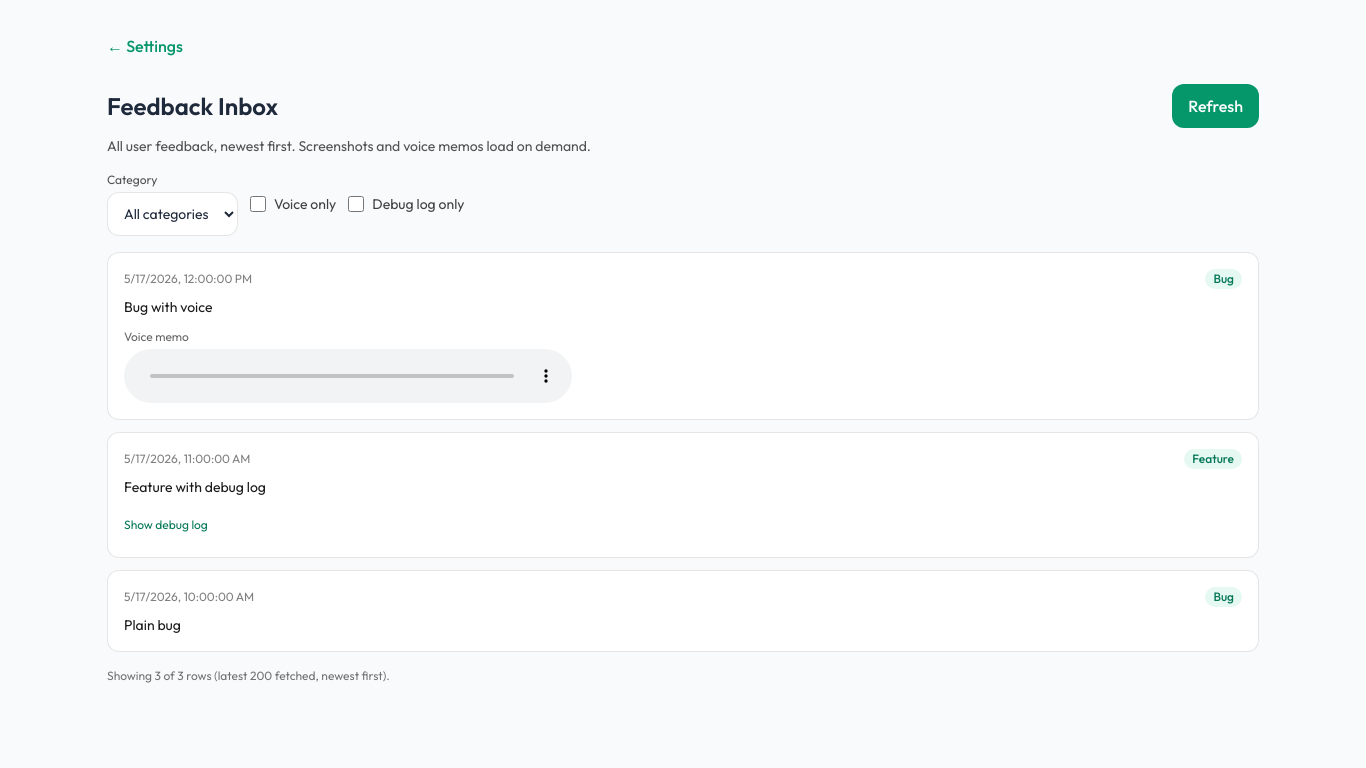
Test: FeedbackInboxPage › filters by category, voice-only, and debug-log-only
The width and height of the screenshot is (1366, 768).
Expected: the text "Bug with voice" is shown, x1=124 y1=298 x2=212 y2=316
Expected: the text "Feature with debug log" is shown, x1=124 y1=478 x2=266 y2=496
Select "Bug" in the dropdown named "filter by category" at [172, 214], box x1=107 y1=192 x2=238 y2=236
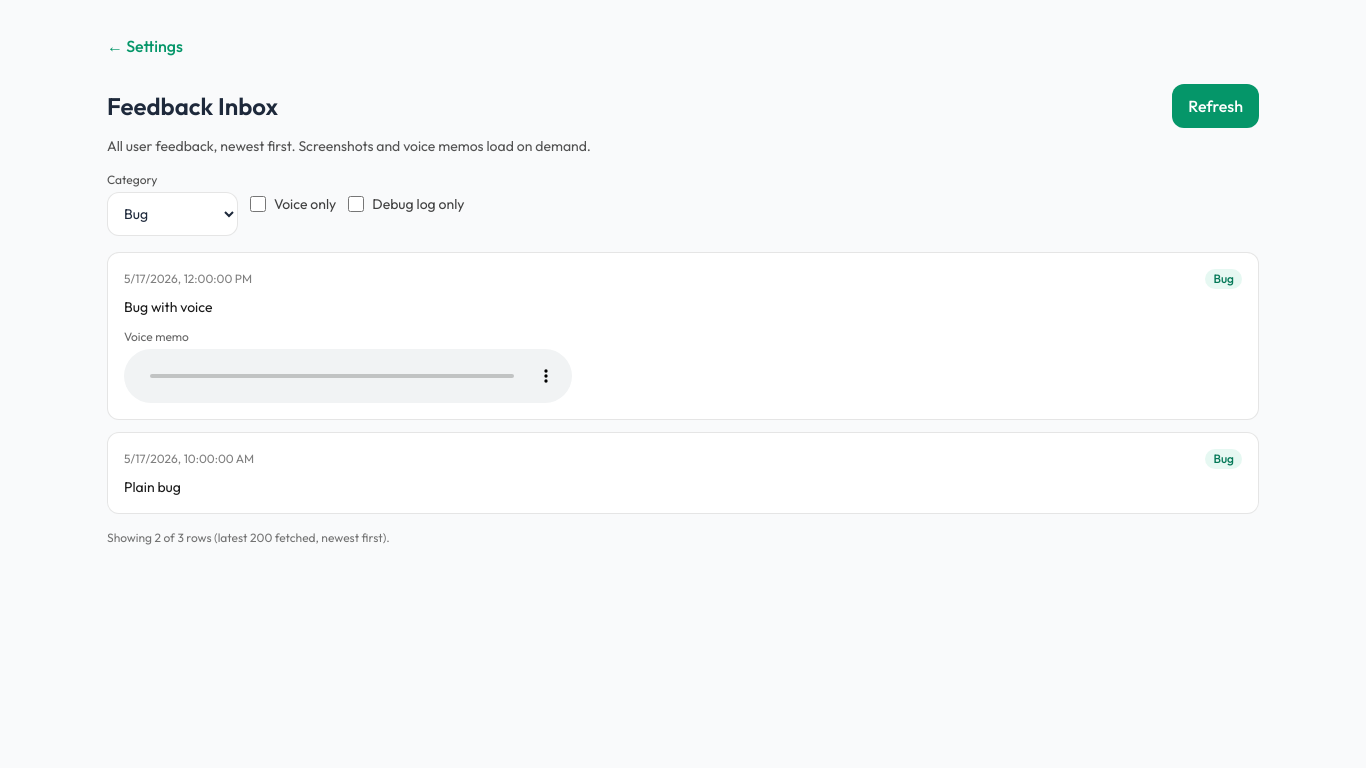
Expected: the text "Bug with voice" is shown, x1=124 y1=298 x2=212 y2=316
Now the text "Feature with debug log" is gone
Voice-only → drops Plain bug (no voice)
Click the checkbox labelled "Voice only".
click(258, 204)  # box x1=250 y1=196 x2=266 y2=212
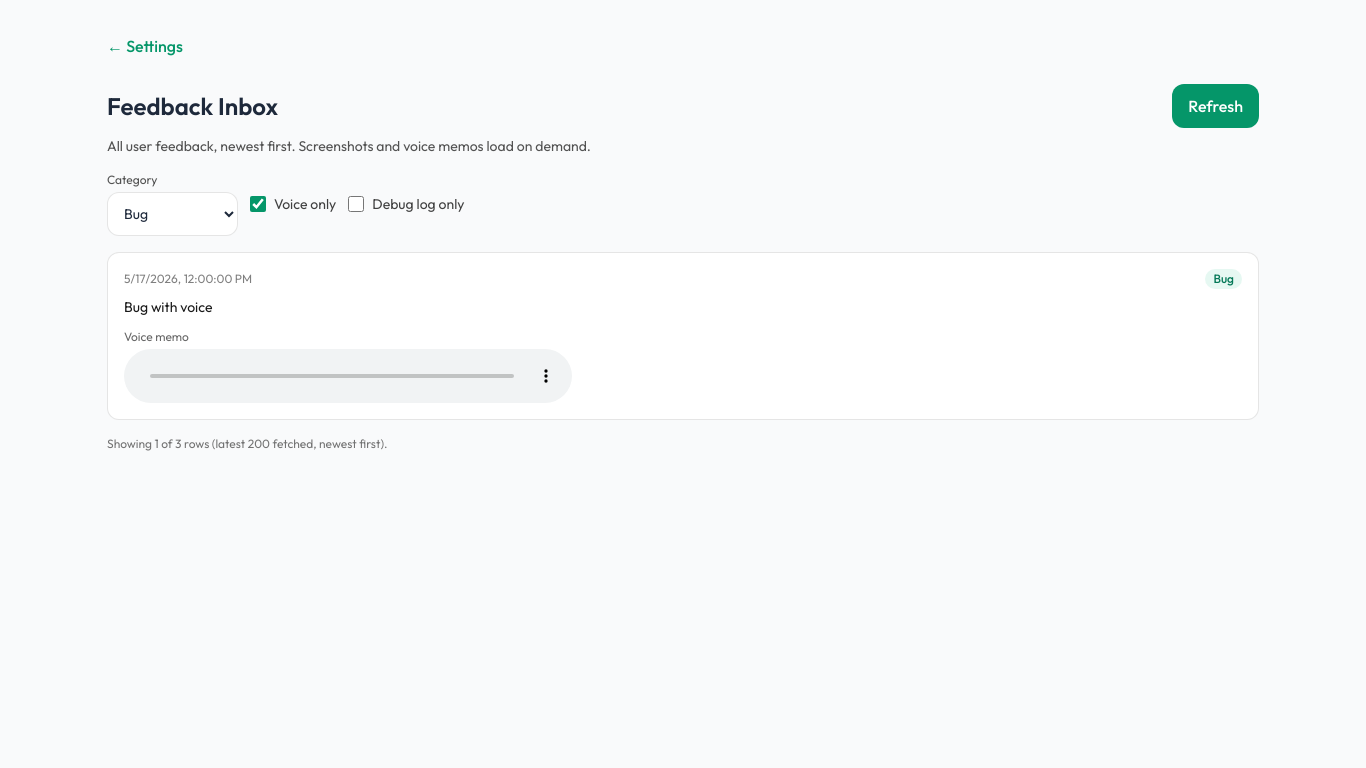
Expected: the text "Bug with voice" is shown, x1=124 y1=298 x2=212 y2=316
Now the text "Plain bug" is gone
Reset to all + debug-log-only
Select "All categories" in the dropdown named "filter by category" at [172, 214], box x1=107 y1=192 x2=238 y2=236
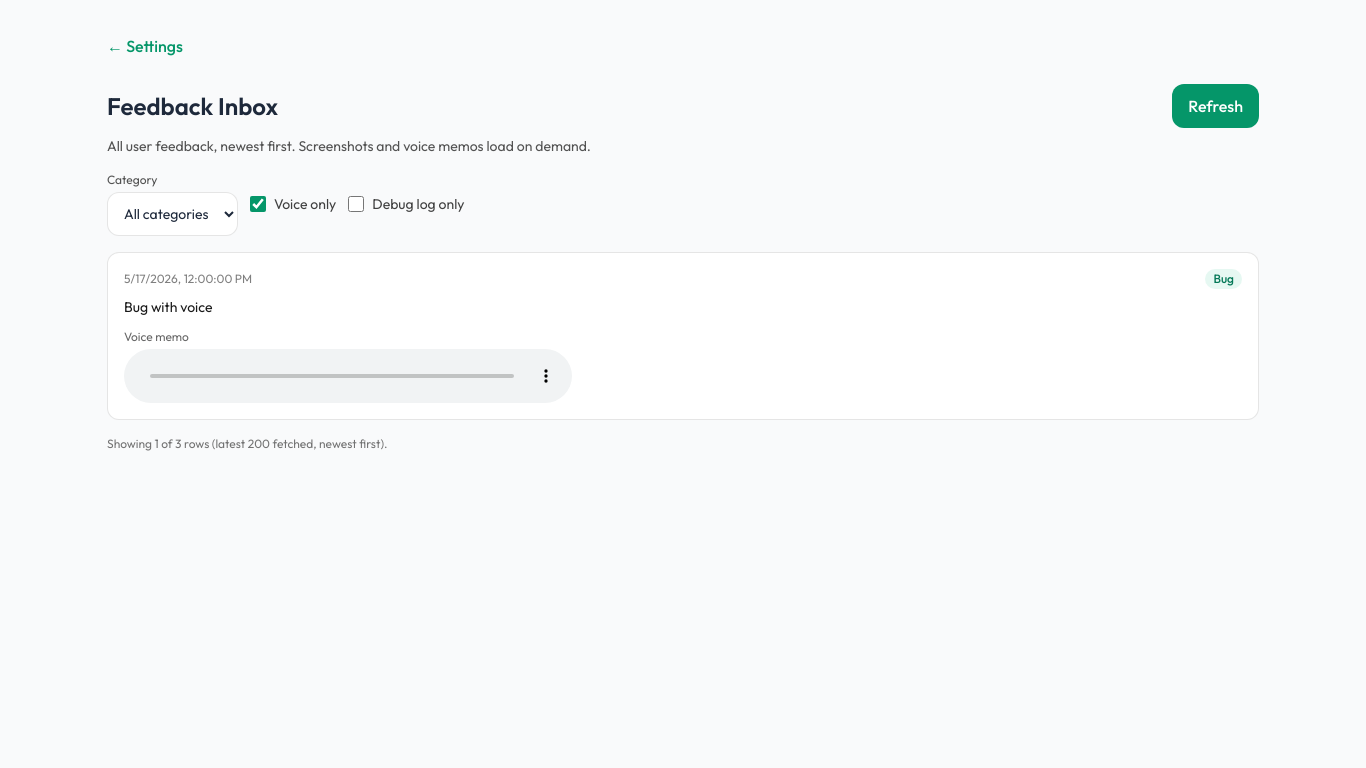
Click the checkbox labelled "Voice only".
click(258, 204)  # box x1=250 y1=196 x2=266 y2=212
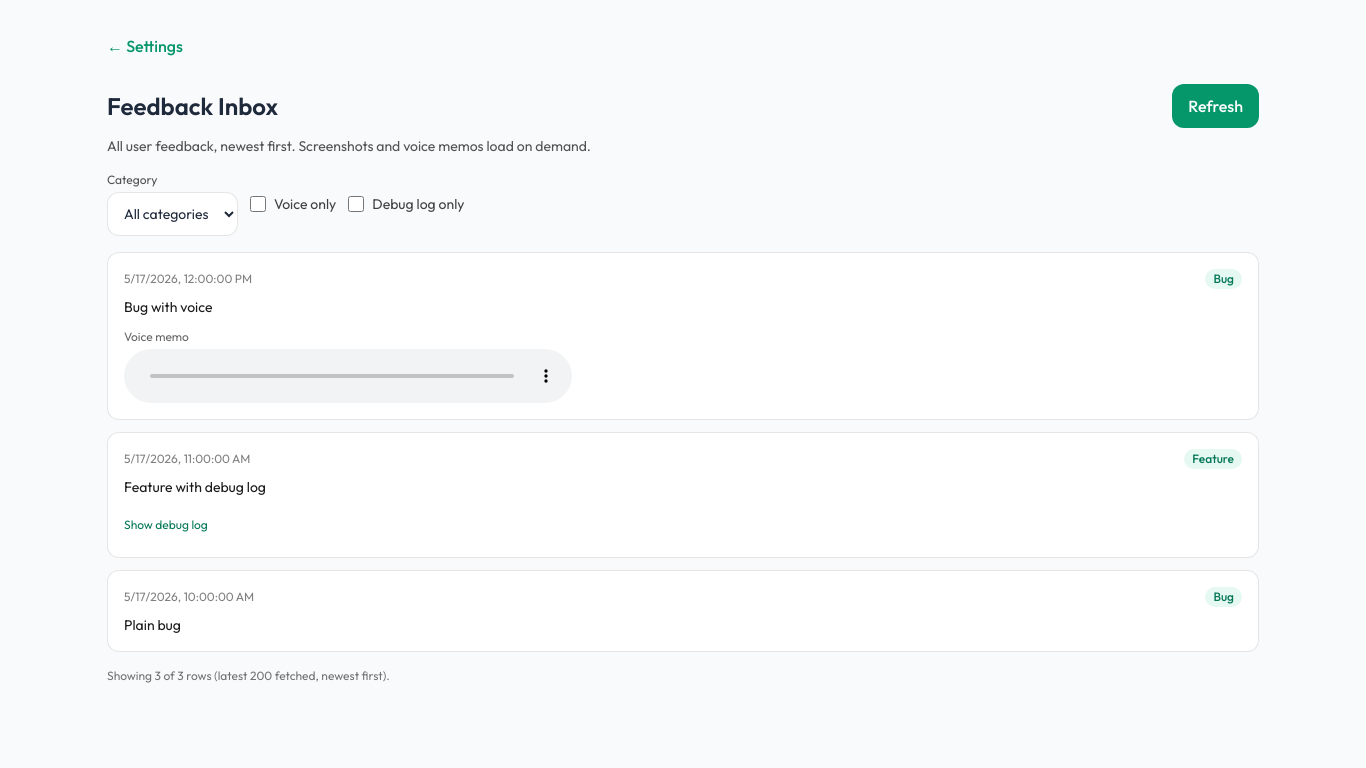
Click the checkbox labelled "Debug log only".
click(356, 204)  # box x1=348 y1=196 x2=364 y2=212
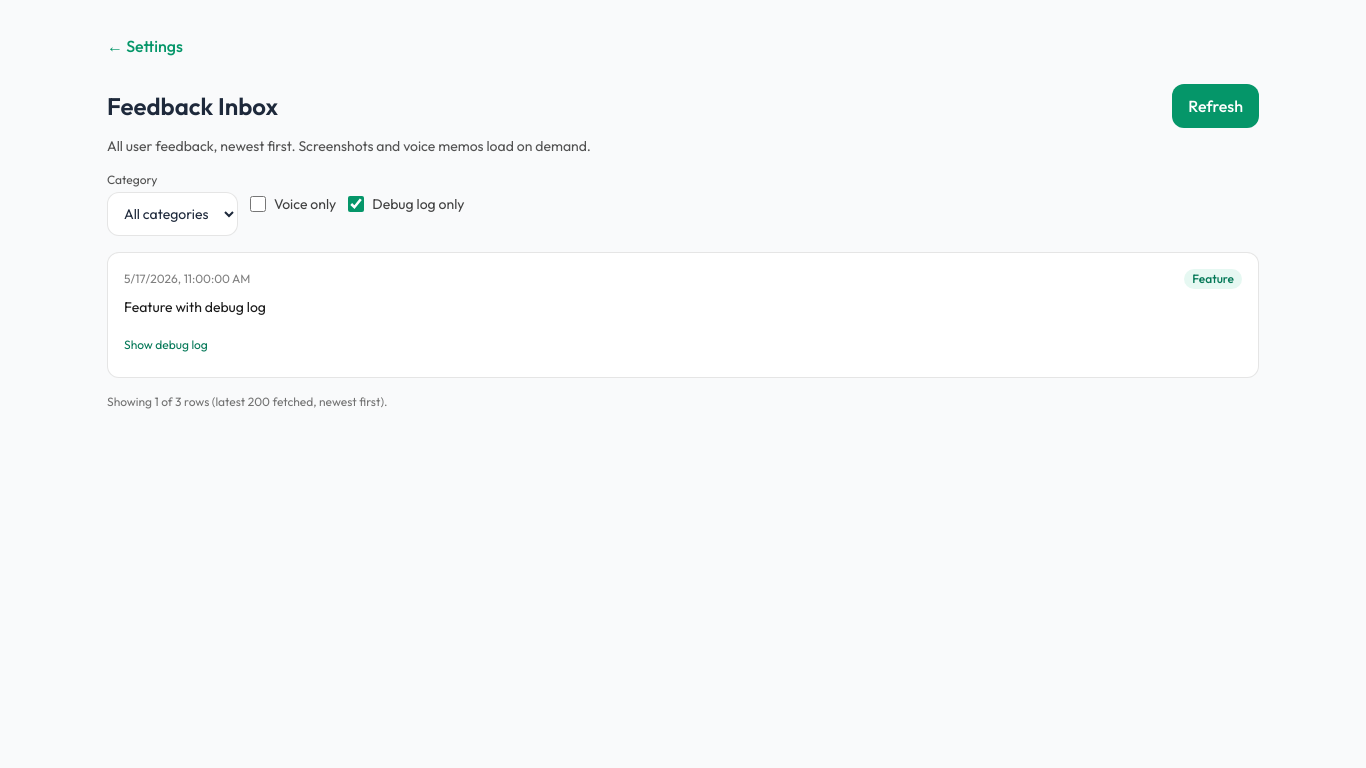
Now the text "Feature with debug log" is shown, box x1=124 y1=298 x2=266 y2=316
Now the text "Bug with voice" is gone
Now the text "Plain bug" is gone
